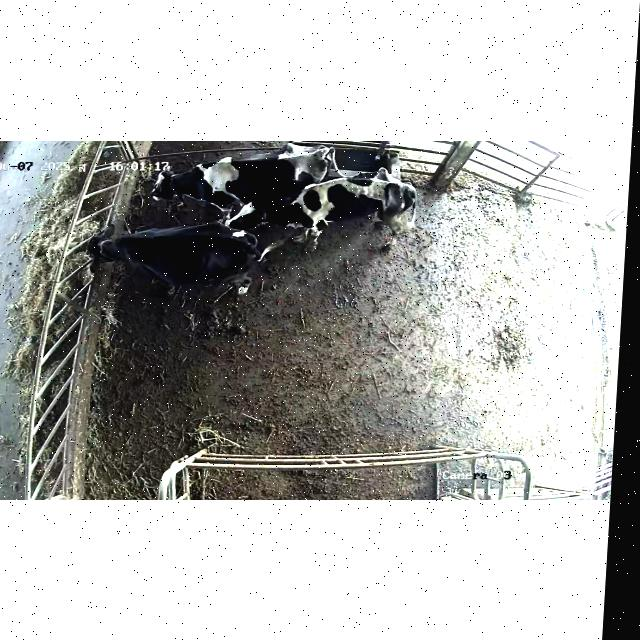stand: (224, 166, 417, 249), (151, 142, 339, 225)
